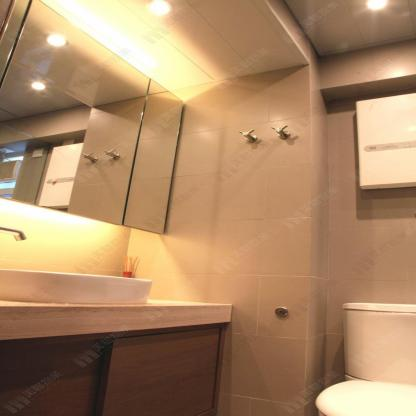Faucet: (0, 224, 27, 244)
Toilet: (318, 302, 416, 416)
Toilet Sink: (0, 269, 151, 303)
Water Heater: (357, 93, 415, 192)
